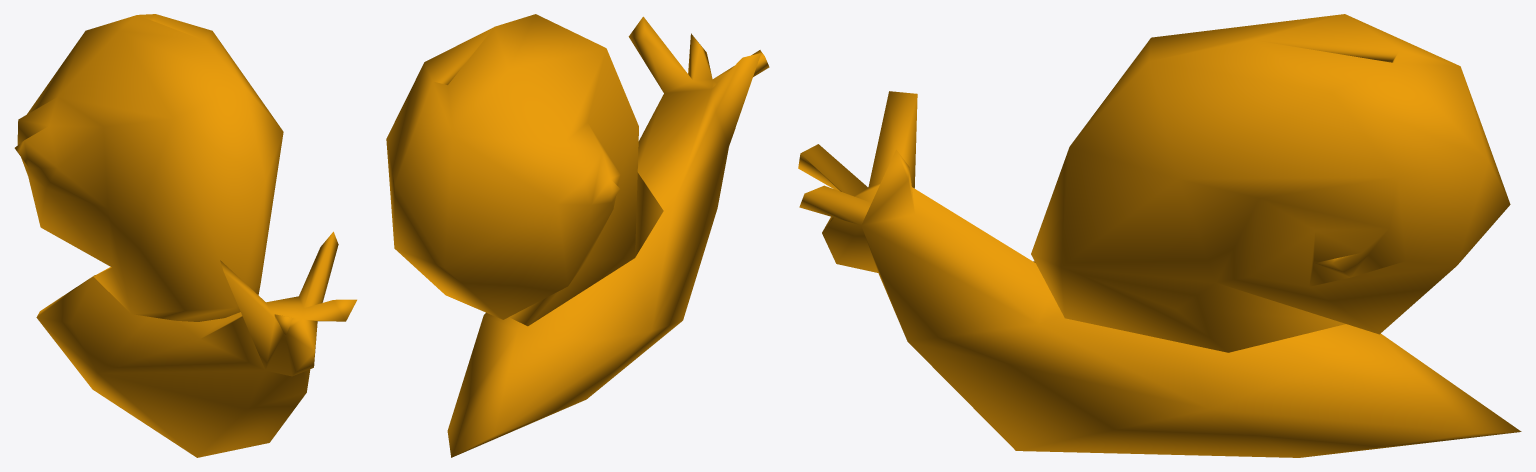
File: snail.glb
3 renders of one model, left to right at view 1: azimuth 30°, elevation 25°; view 2: azimuth 150°, elevation 25°; view 3: azimuth 270°, elevation 25°, orthographic. The views are drawn at different scales.
Parts seen in each view (by area): view 1: 20447_Snail_v2; view 2: 20447_Snail_v2; view 3: 20447_Snail_v2.
Boxes of the visible parts, x1=… form: 20447_Snail_v2: x1=14, y1=14, x2=356, y2=457; 20447_Snail_v2: x1=386, y1=14, x2=769, y2=457; 20447_Snail_v2: x1=798, y1=14, x2=1521, y2=457.
Size of the model in its own units: 4.12 by 6.41 by 9.7.
